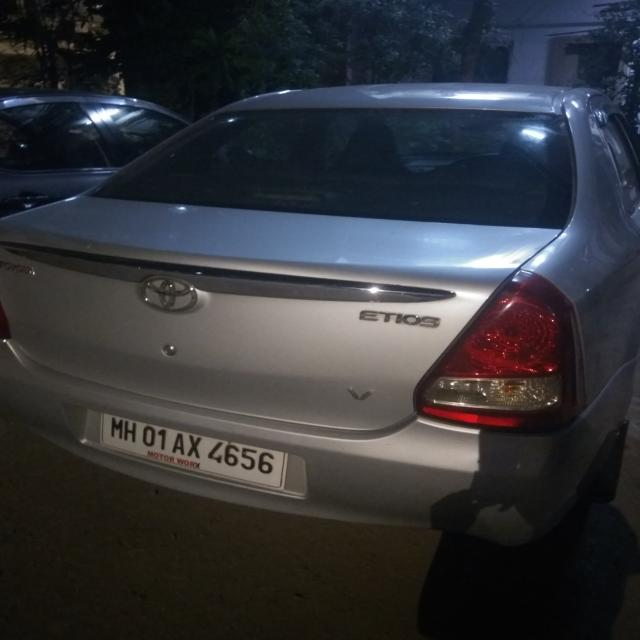Number-Plate: (98, 412, 294, 494)
